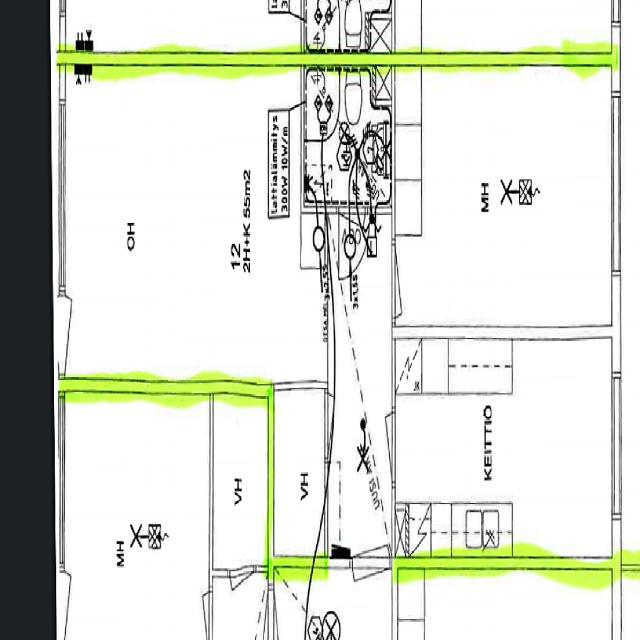door: (350, 472, 389, 568), (20, 294, 66, 374), (58, 294, 104, 374), (392, 243, 433, 321), (358, 414, 396, 485), (325, 394, 360, 460), (338, 202, 368, 277)
